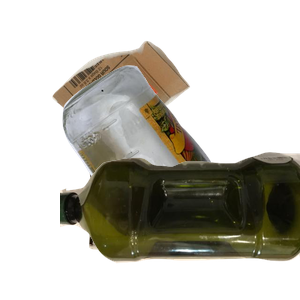cardboard: (50, 38, 233, 184)
glass: (60, 63, 300, 243)
plastic: (60, 149, 300, 300)
trash: (86, 158, 242, 300)
